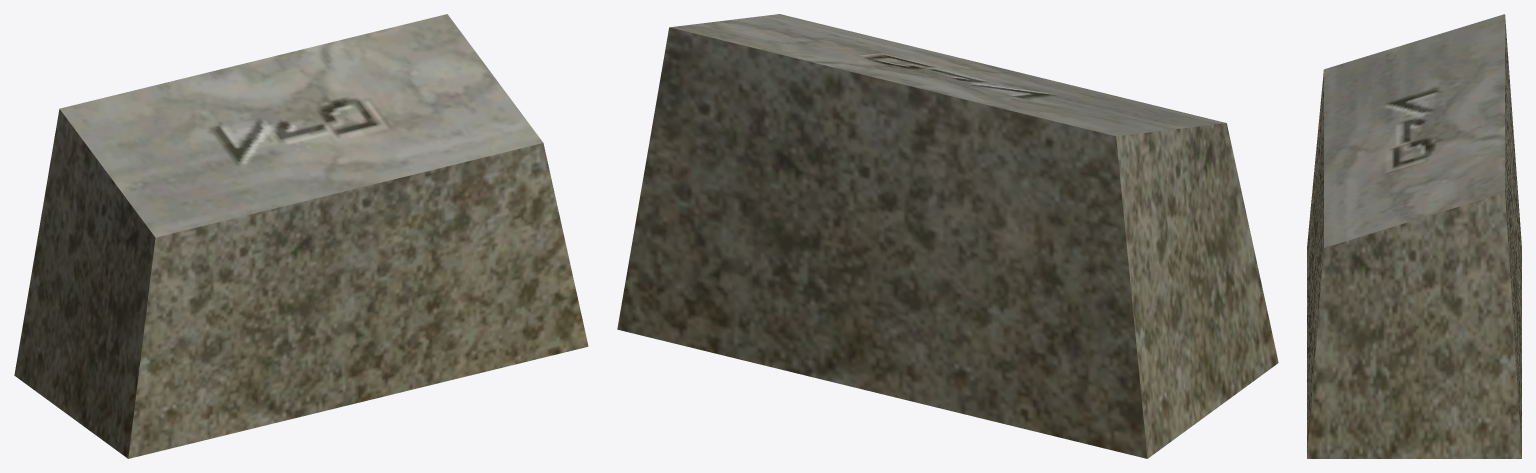
Rendered from thm_all_gravestone_s05_l1.fbx.
3 views of the same model, side by side, from view 1: azimuth 30°, elevation 25°; view 2: azimuth 150°, elevation 25°; view 3: azimuth 270°, elevation 25° (orthographic). The views are drawn at different scales.
Visible parts, largest first — view 1: mesh_node; view 2: mesh_node; view 3: mesh_node.
Part boxes in pixels (x1,y1,x2,y2): mesh_node: (14,14,588,458); mesh_node: (617,14,1278,458); mesh_node: (1307,14,1521,458).
Size of the model in its own units: 0.3607 by 0.1982 by 0.1546.
